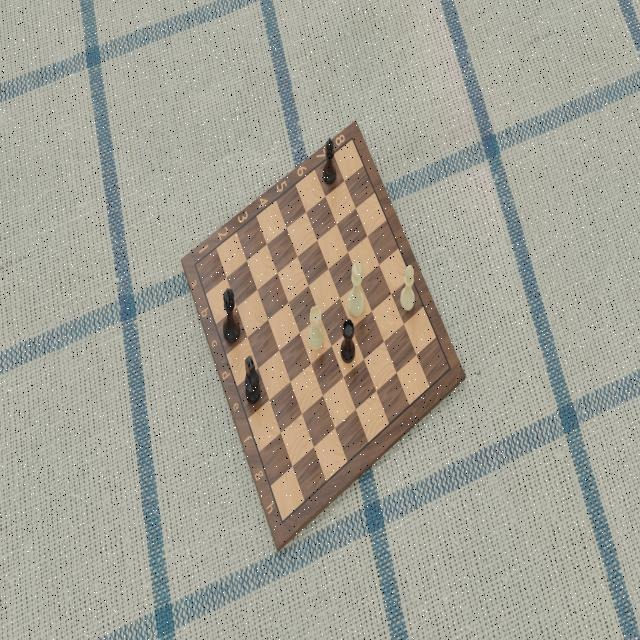black-bishop: (322, 138, 338, 188)
black-king: (218, 287, 242, 347)
black-knight: (242, 352, 261, 407)
black-rook: (339, 318, 357, 365)
white-bishop: (398, 263, 418, 318)
white-king: (347, 261, 365, 319)
white-rook: (305, 303, 327, 356)
